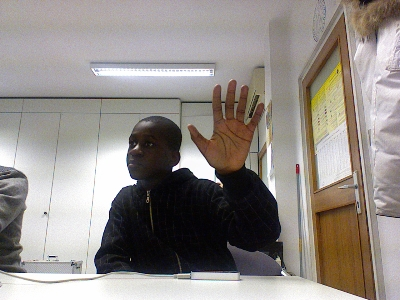布: (185, 77, 266, 173)
